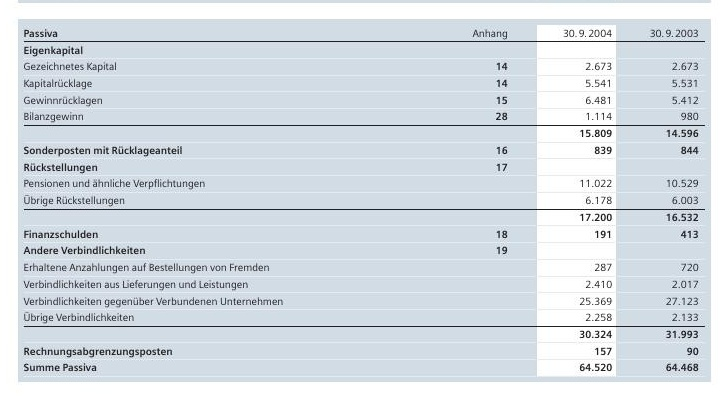table: (0, 0, 726, 398)
